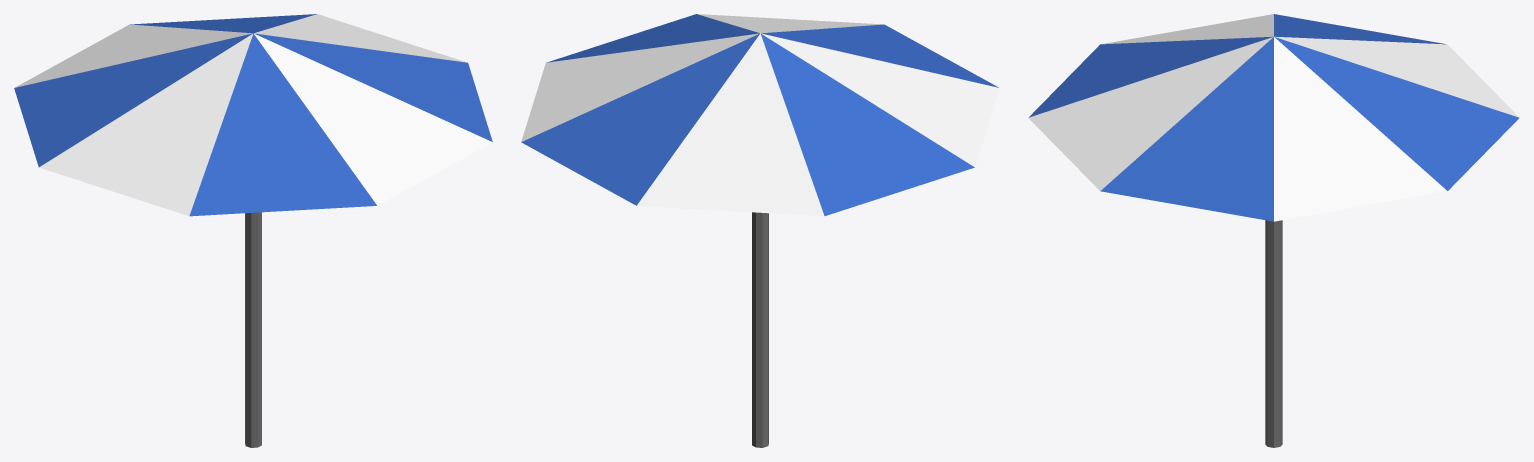
Rendered from Umbrella.fbx.
3 views of the same model, side by side, from view 1: azimuth 30°, elevation 25°; view 2: azimuth 150°, elevation 25°; view 3: azimuth 270°, elevation 25° (orthographic).
Parts seen in each view (by area): view 1: Umbrella; view 2: Umbrella; view 3: Umbrella.
Boxes of the visible parts, <box> form: Umbrella: <box>14,14,492,447</box>; Umbrella: <box>521,14,999,447</box>; Umbrella: <box>1028,14,1519,447</box>.
Bounding box in the file's own units: 280 × 256 × 280.
